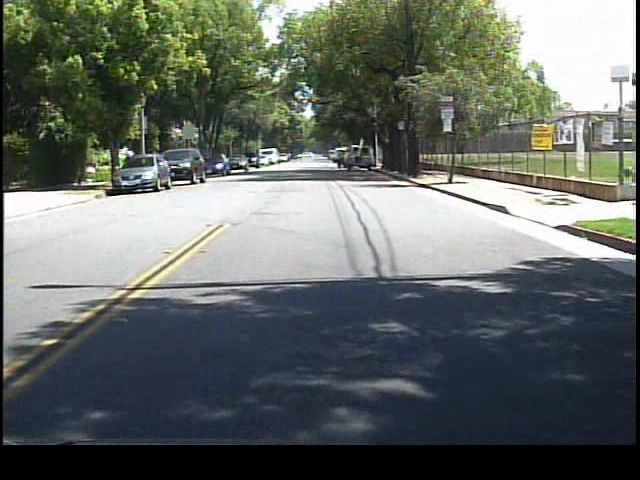person: (332, 146, 347, 172)
